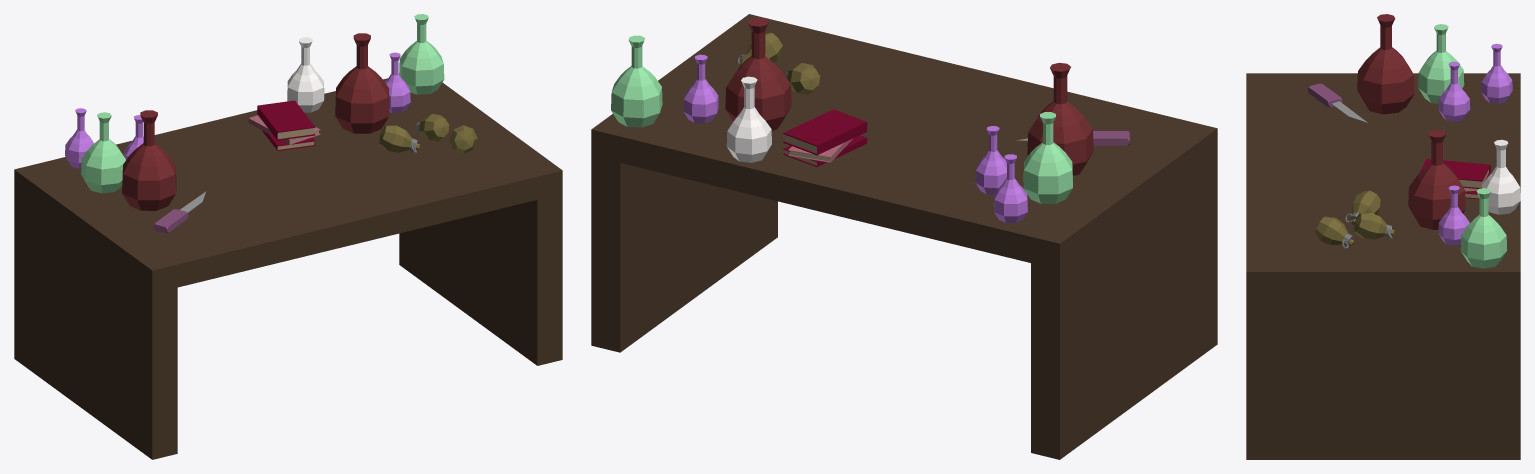
File: Market desk.fbx
3 views of the same model, side by side, from view 1: azimuth 30°, elevation 25°; view 2: azimuth 150°, elevation 25°; view 3: azimuth 270°, elevation 25° (orthographic). The views are drawn at different scales.
Parts seen in each view (by area): view 1: Market desk, Potion_1, Potion_4, Potion_4.001, Potion_2, Bomb, Book_2, Potion_3; view 2: Market desk, Potion_1, Potion_2, Potion_4, Potion_4.001, Book_2, Potion_3, Bomb; view 3: Market desk, Potion_1, Potion_4.001, Potion_2, Potion_4, Bomb, Potion_3, Book_2, Knife.
Part boxes in pixels (left/top/right/bottom): Market desk: left=14, top=78, right=562, bottom=459; Potion_1: left=81, top=14, right=444, bottom=193; Potion_4: left=335, top=33, right=389, bottom=133; Potion_4.001: left=122, top=110, right=176, bottom=210; Potion_2: left=65, top=52, right=410, bottom=168; Bomb: left=379, top=114, right=477, bottom=153; Book_2: left=257, top=100, right=315, bottom=150; Potion_3: left=287, top=37, right=324, bottom=112; Market desk: left=591, top=14, right=1217, bottom=459; Potion_1: left=611, top=35, right=1072, bottom=203; Potion_2: left=683, top=54, right=1027, bottom=222; Potion_4: left=725, top=17, right=791, bottom=130; Potion_4.001: left=1027, top=62, right=1093, bottom=175; Book_2: left=783, top=109, right=867, bottom=167; Potion_3: left=726, top=76, right=771, bottom=162; Bomb: left=740, top=32, right=820, bottom=94; Market desk: left=1246, top=73, right=1520, bottom=459; Potion_1: left=1418, top=24, right=1507, bottom=268; Potion_4.001: left=1357, top=14, right=1414, bottom=114; Potion_2: left=1438, top=43, right=1512, bottom=245; Potion_4: left=1408, top=129, right=1465, bottom=229; Bomb: left=1315, top=190, right=1394, bottom=246; Potion_3: left=1482, top=139, right=1520, bottom=214; Book_2: left=1419, top=159, right=1490, bottom=199; Knife: left=1307, top=83, right=1342, bottom=107.
Size of the model in its own units: 721 by 466 by 421.
